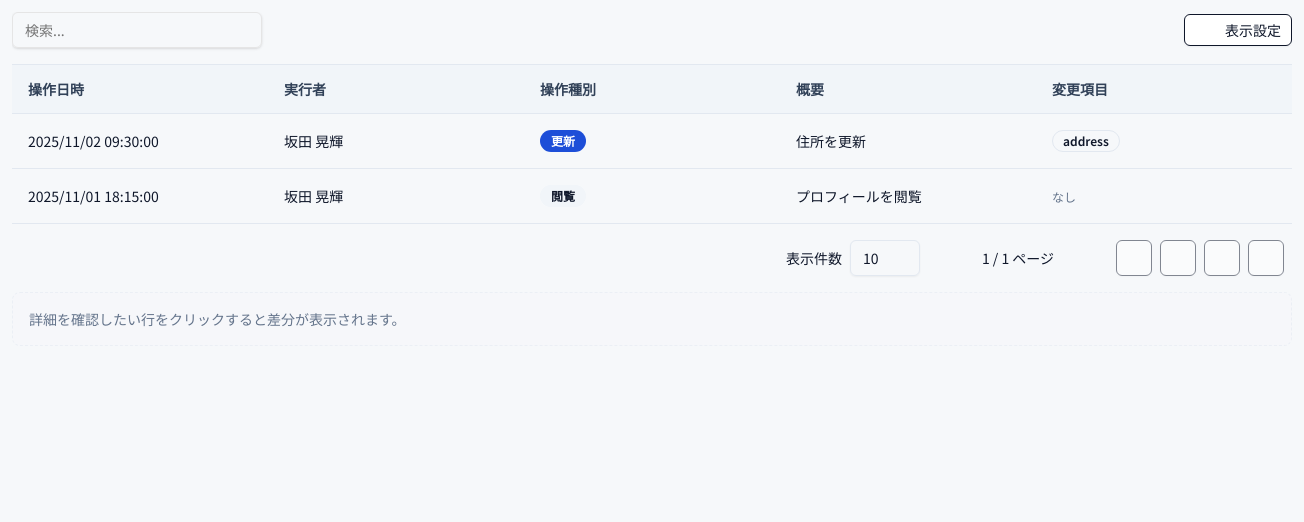
Test: ProfileActivityTable › 操作履歴を表示し行クリックで詳細を展開する
Check: the text "プロフィールを閲覧" is shown, box left=796, top=186, right=922, bottom=206
Click the text "住所を更新": [831, 140] box left=796, top=130, right=866, bottom=150
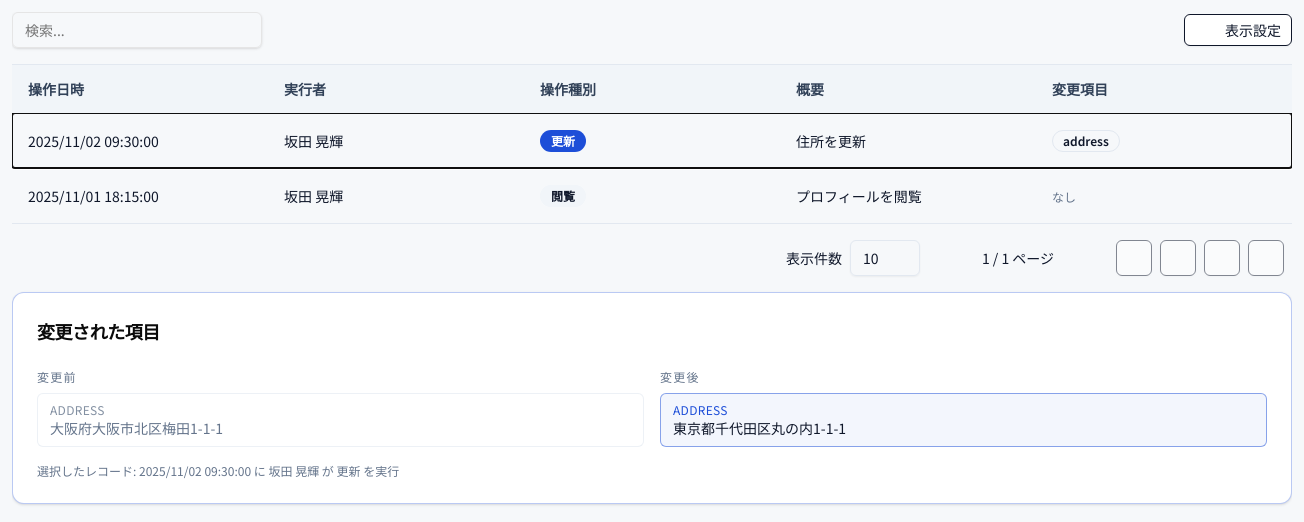
Check: the heading "変更された項目" is shown, box left=37, top=318, right=160, bottom=344
Check: the text "大阪府大阪市北区梅田1-1-1" is shown, box left=50, top=418, right=223, bottom=438
Check: the text "東京都千代田区丸の内1-1-1" is shown, box left=673, top=418, right=846, bottom=438
